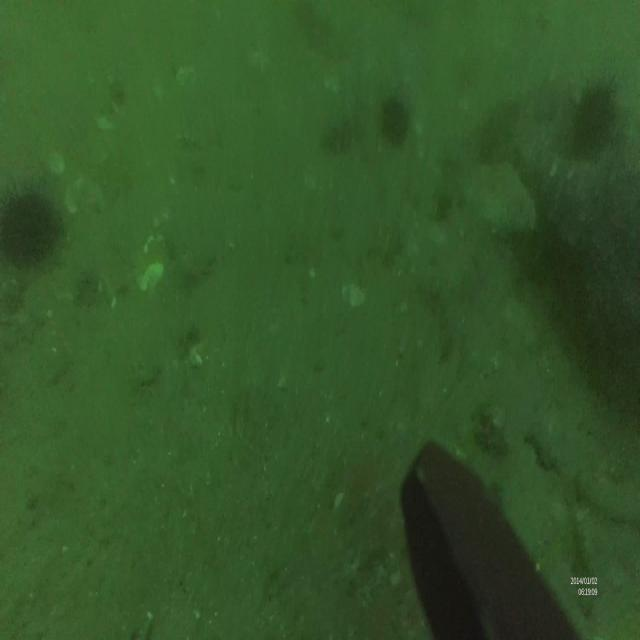echinus: (1, 172, 64, 278), (576, 73, 618, 153), (380, 95, 410, 146)
